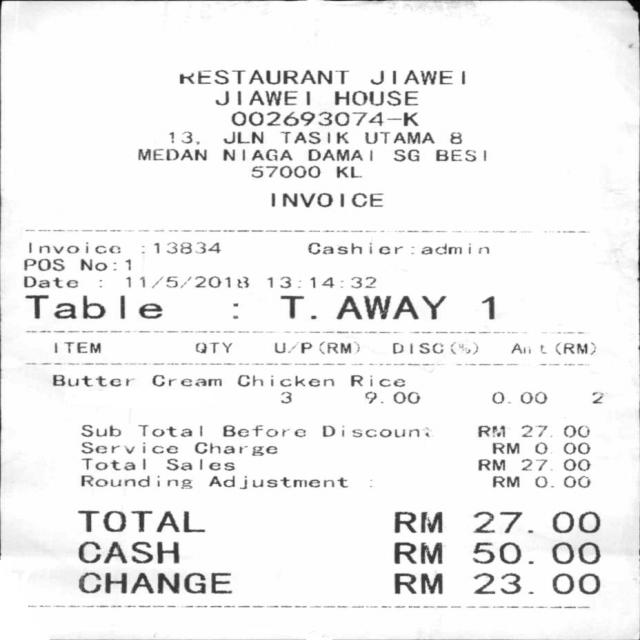text: (23, 294, 162, 321), (77, 572, 233, 594), (471, 510, 599, 536), (470, 540, 599, 564), (230, 110, 417, 126), (76, 510, 204, 532), (335, 294, 443, 320), (472, 572, 599, 594), (179, 69, 348, 84), (76, 541, 178, 563), (207, 475, 347, 489), (270, 192, 382, 207), (125, 275, 248, 288), (79, 474, 191, 488), (369, 69, 463, 85), (235, 372, 333, 387), (214, 90, 309, 105), (508, 340, 595, 356), (266, 276, 374, 288), (391, 340, 477, 355), (322, 425, 428, 437), (334, 90, 416, 105), (194, 441, 276, 456), (80, 442, 177, 454), (307, 242, 403, 254), (273, 341, 360, 354), (28, 241, 120, 253), (392, 510, 442, 532), (392, 542, 442, 564), (392, 572, 442, 594), (223, 424, 304, 437), (364, 130, 433, 144), (279, 130, 348, 144), (521, 424, 589, 438), (250, 165, 320, 178), (151, 241, 221, 254), (151, 374, 221, 387), (51, 375, 133, 386), (419, 243, 488, 256), (521, 458, 589, 471), (79, 457, 144, 470), (137, 148, 206, 160), (222, 148, 291, 160), (166, 458, 233, 470), (306, 148, 371, 160), (137, 424, 200, 436), (22, 275, 76, 288), (531, 475, 589, 487), (350, 374, 403, 387), (533, 442, 589, 454), (491, 391, 546, 403), (54, 341, 102, 354), (79, 258, 130, 270), (435, 150, 485, 162), (221, 130, 262, 144), (279, 294, 301, 320), (193, 340, 230, 354), (20, 258, 63, 270), (80, 424, 120, 436), (476, 424, 504, 438), (168, 131, 198, 144), (392, 148, 418, 162), (477, 458, 504, 471), (335, 165, 361, 178), (491, 442, 518, 454), (482, 296, 495, 320), (392, 391, 418, 403), (492, 475, 518, 487), (364, 391, 382, 403), (276, 391, 290, 404), (449, 132, 461, 144), (591, 392, 602, 403)
